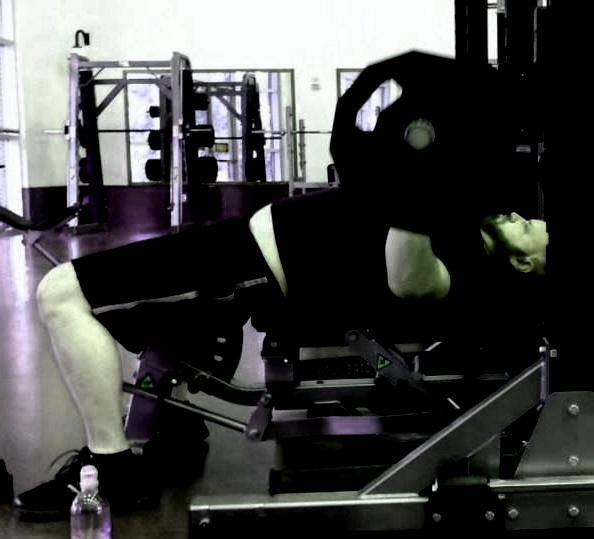Barbell: (398, 116, 443, 157)
